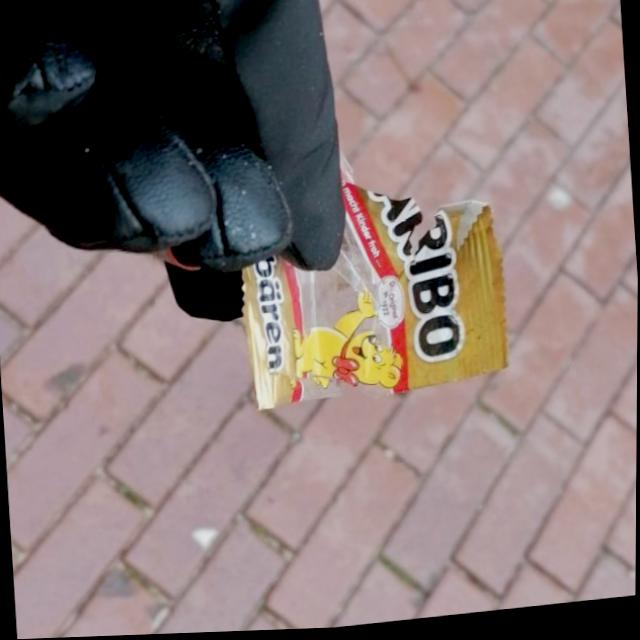Plastic: (225, 135, 518, 414)
